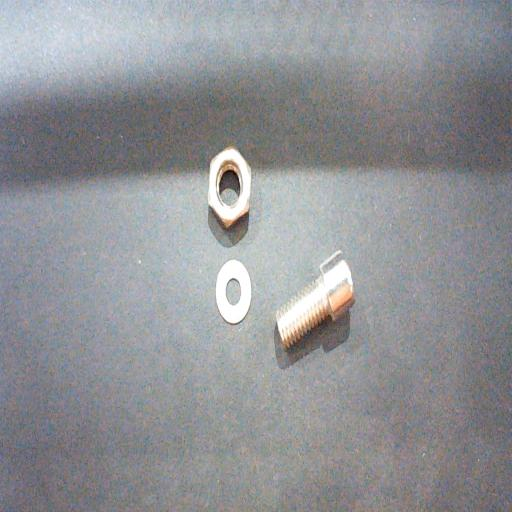nut: (207, 145, 252, 230)
screw: (276, 250, 355, 352)
washer: (215, 259, 252, 325)
